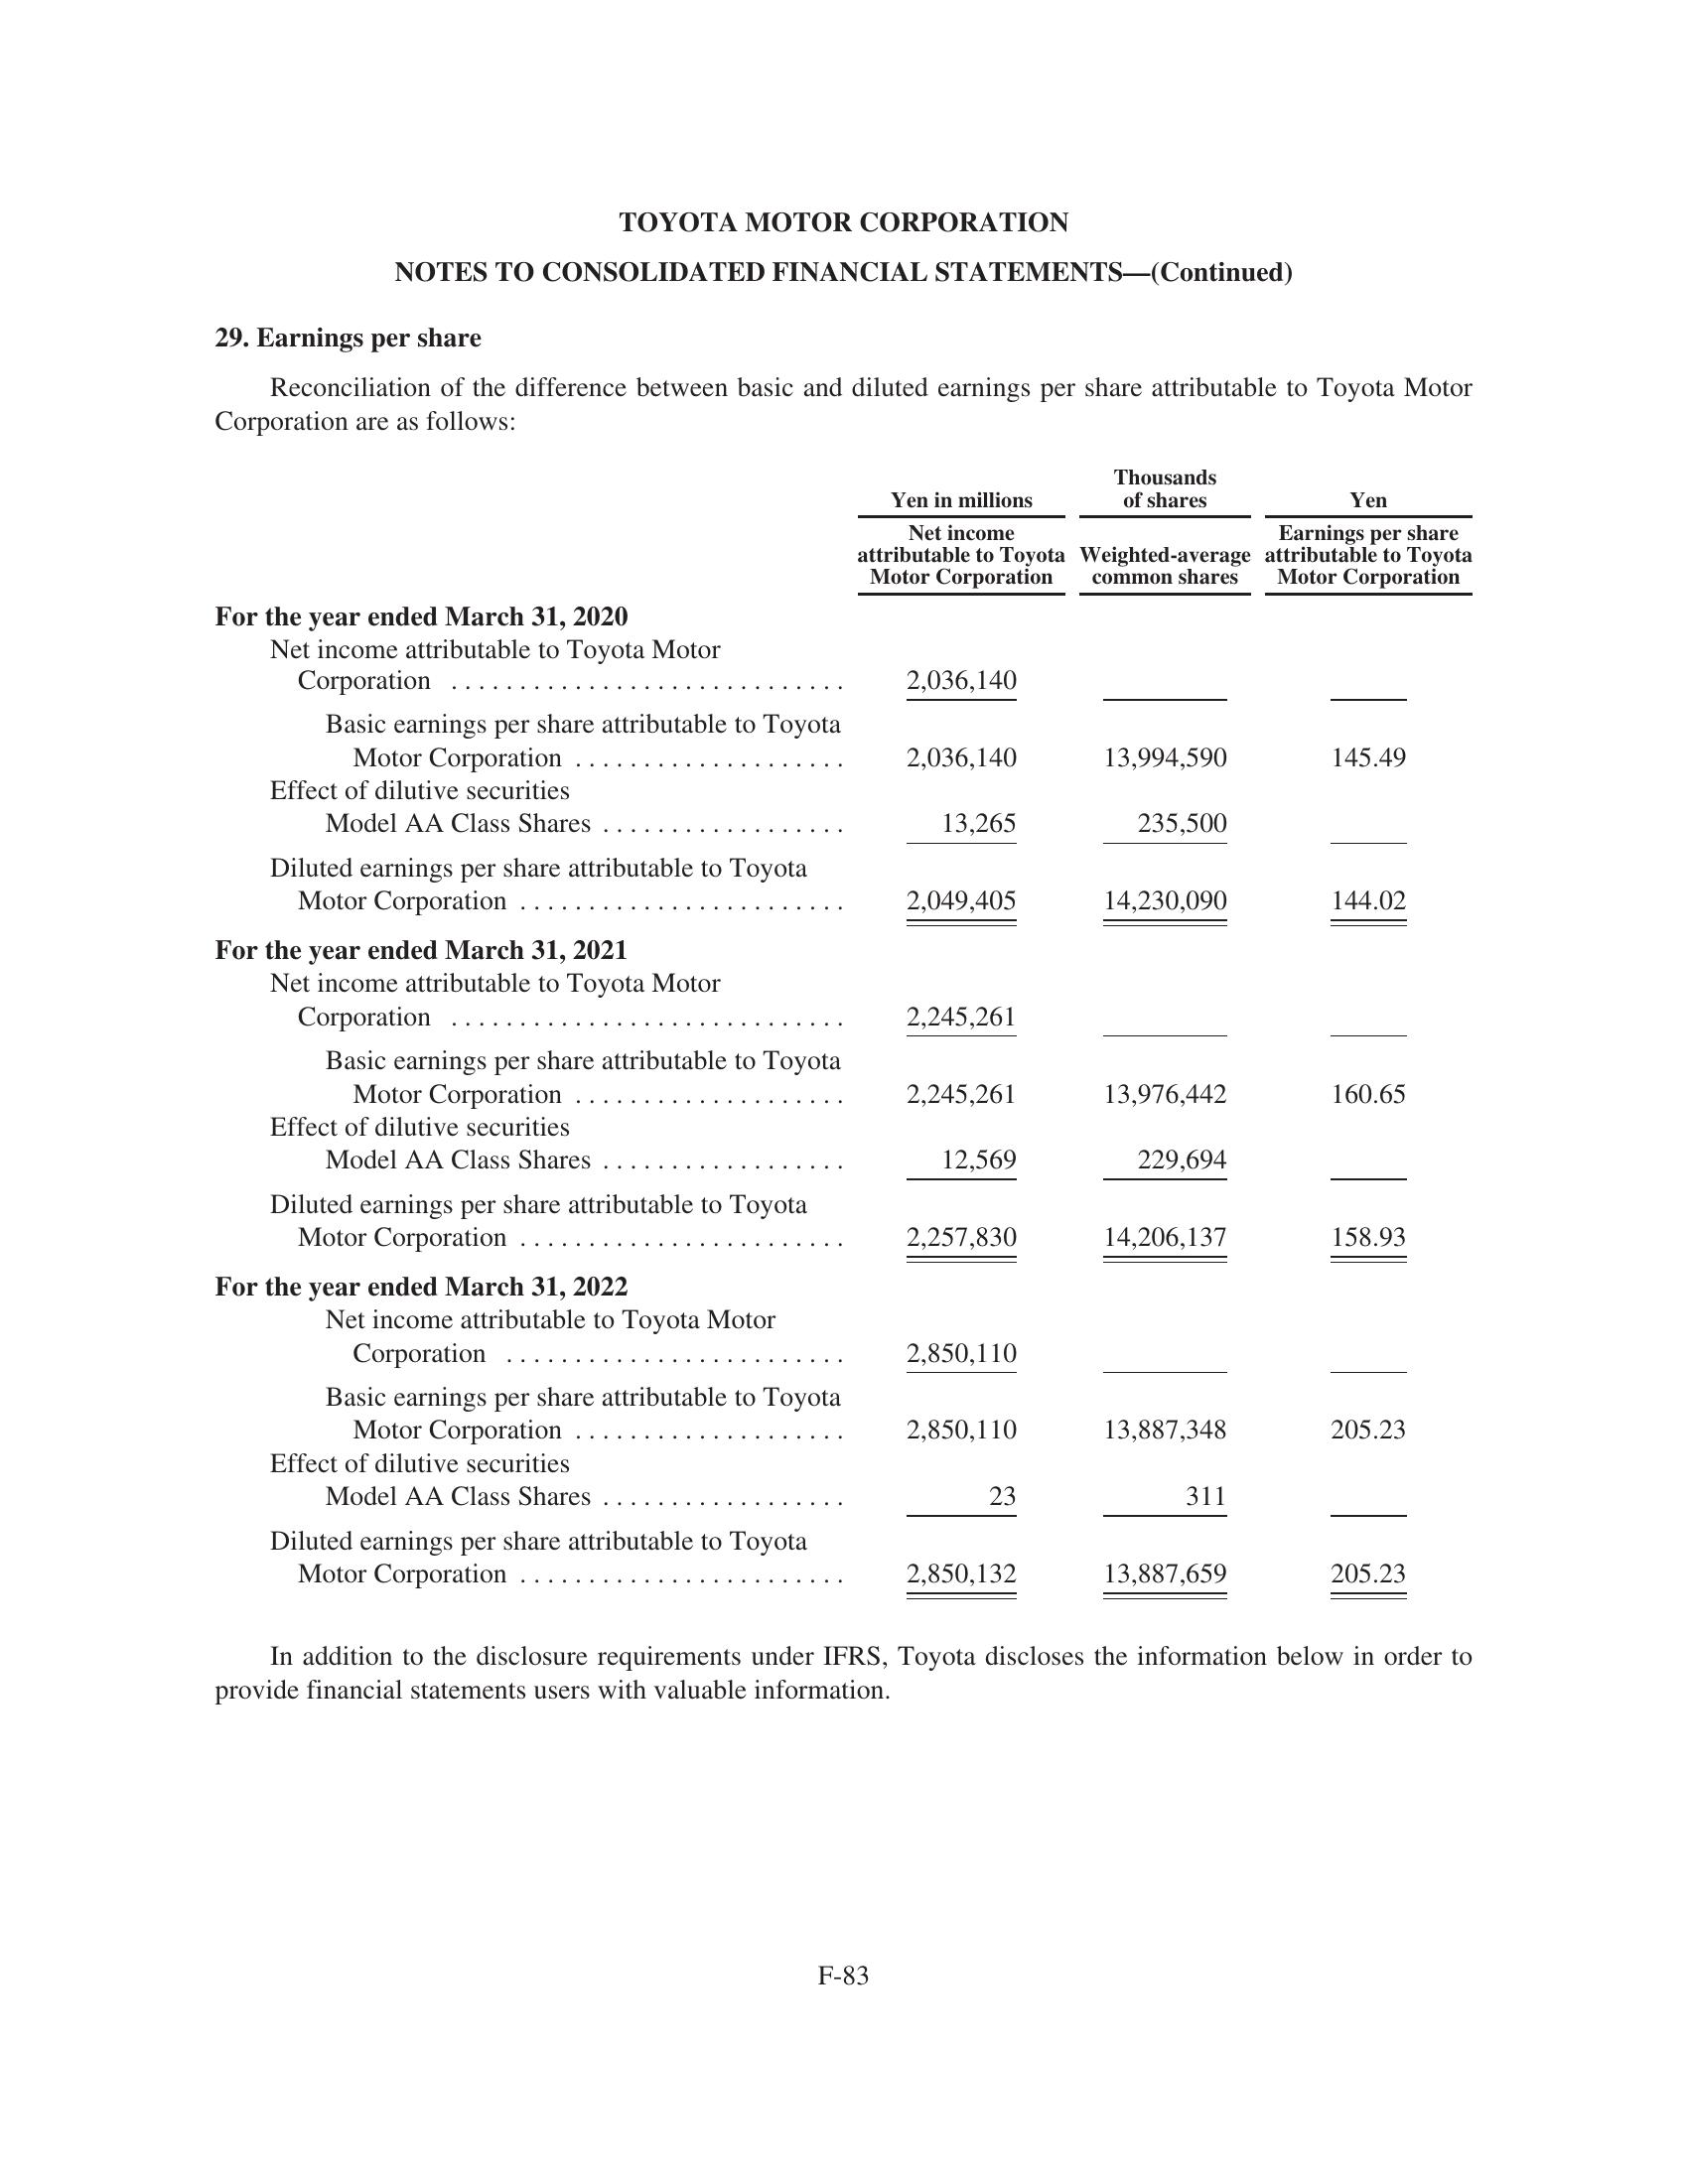Footer: (0, 1941, 1688, 2184)
Header: (0, 0, 1688, 175)
Table: (163, 443, 1500, 1613)
